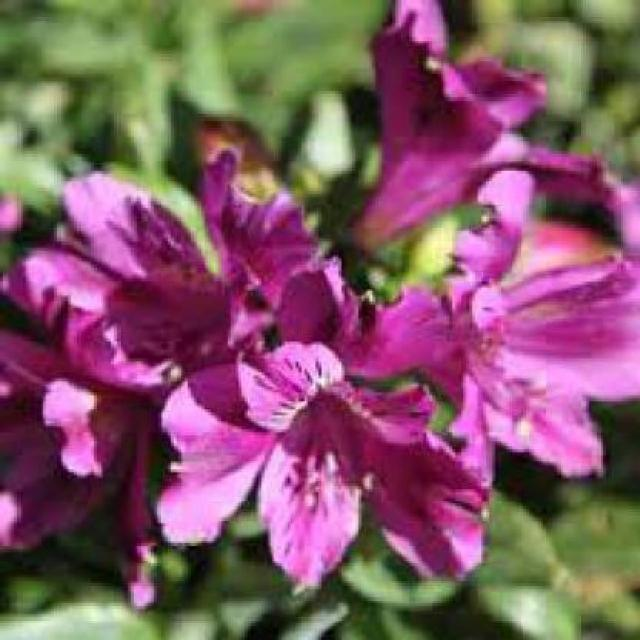Flower: (3, 150, 365, 390), (154, 341, 489, 595), (432, 168, 637, 489), (370, 3, 615, 203), (3, 329, 143, 546)
